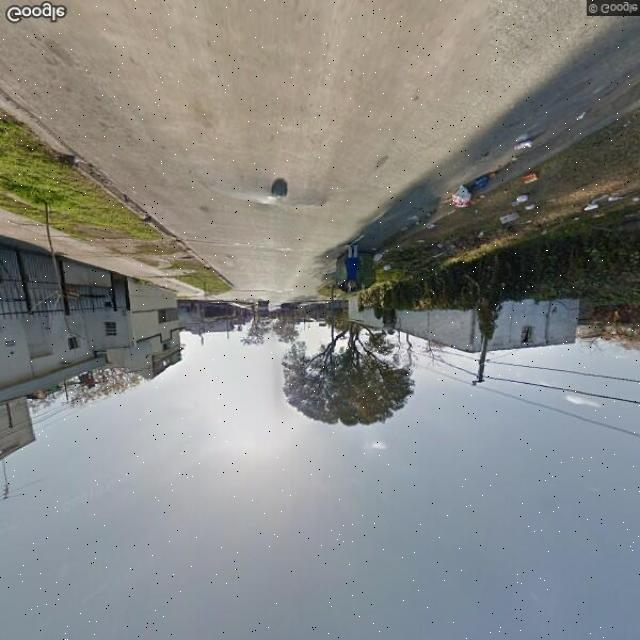garbage container: (333, 241, 390, 299)
